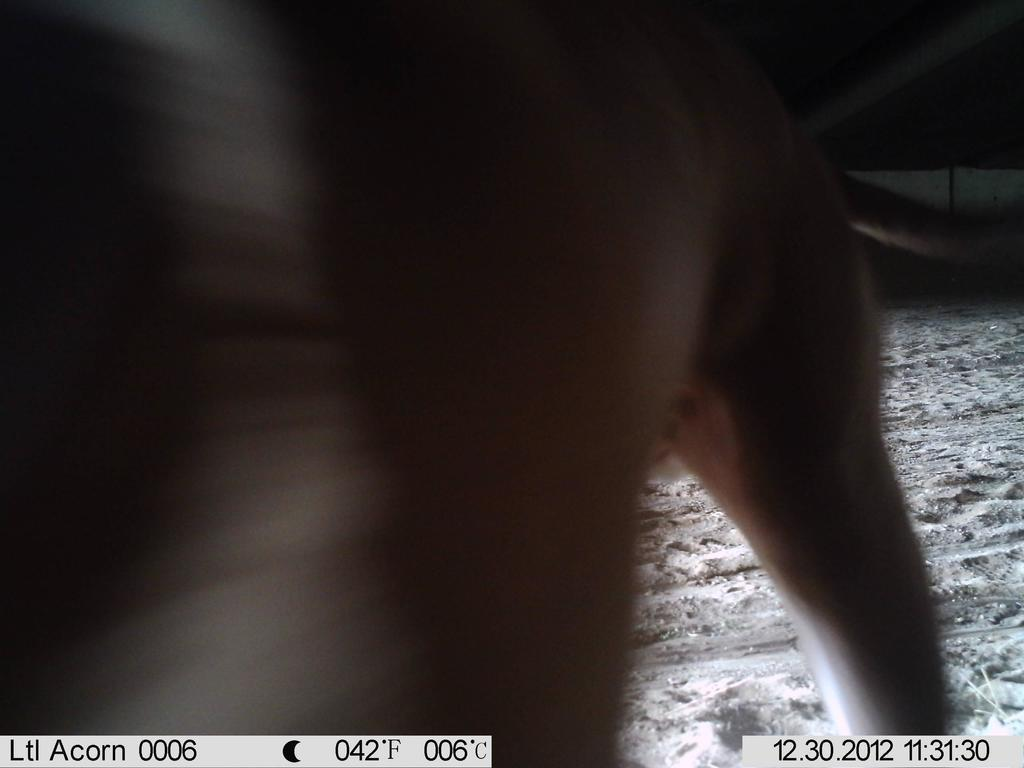dog: (66, 31, 975, 741)
